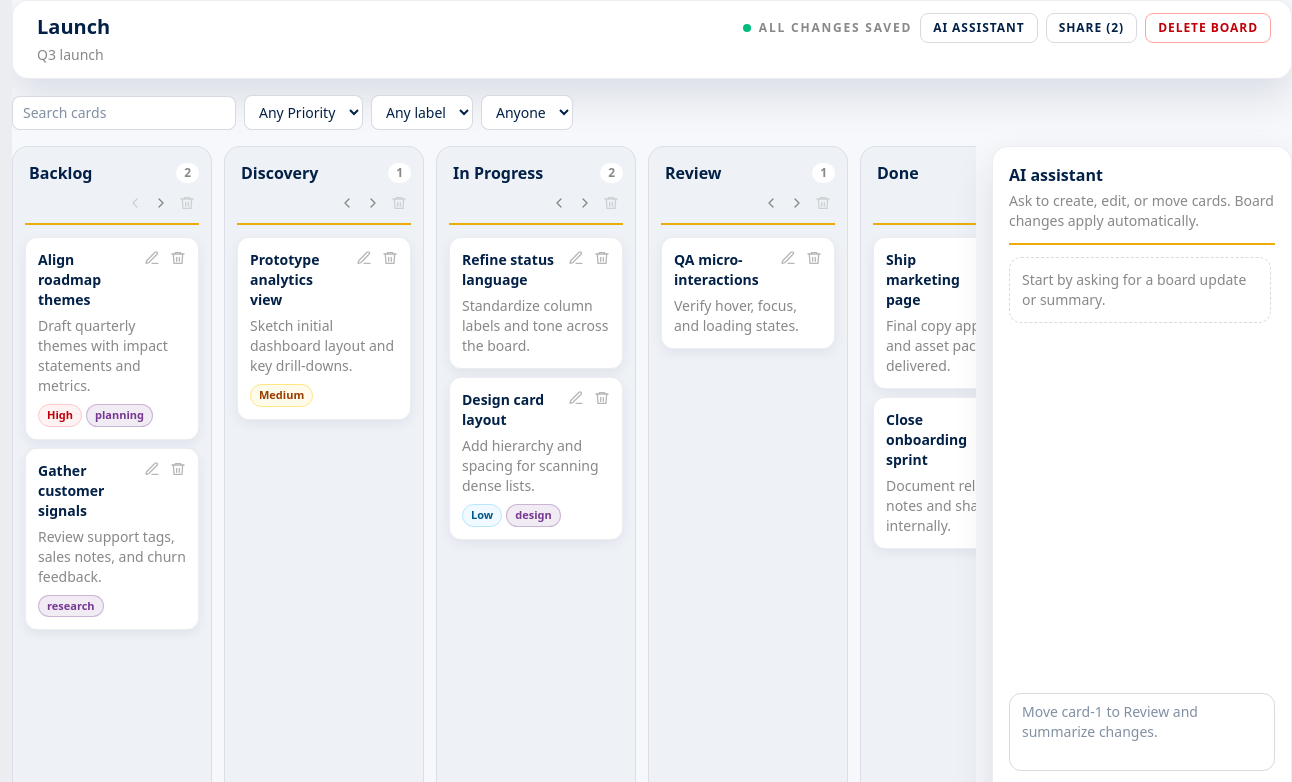
Test: KanbanBoard › restores the column title when cleared
Step 1. Clear the 1st field named "Column title" → (99, 173), box [25,159,172,187]
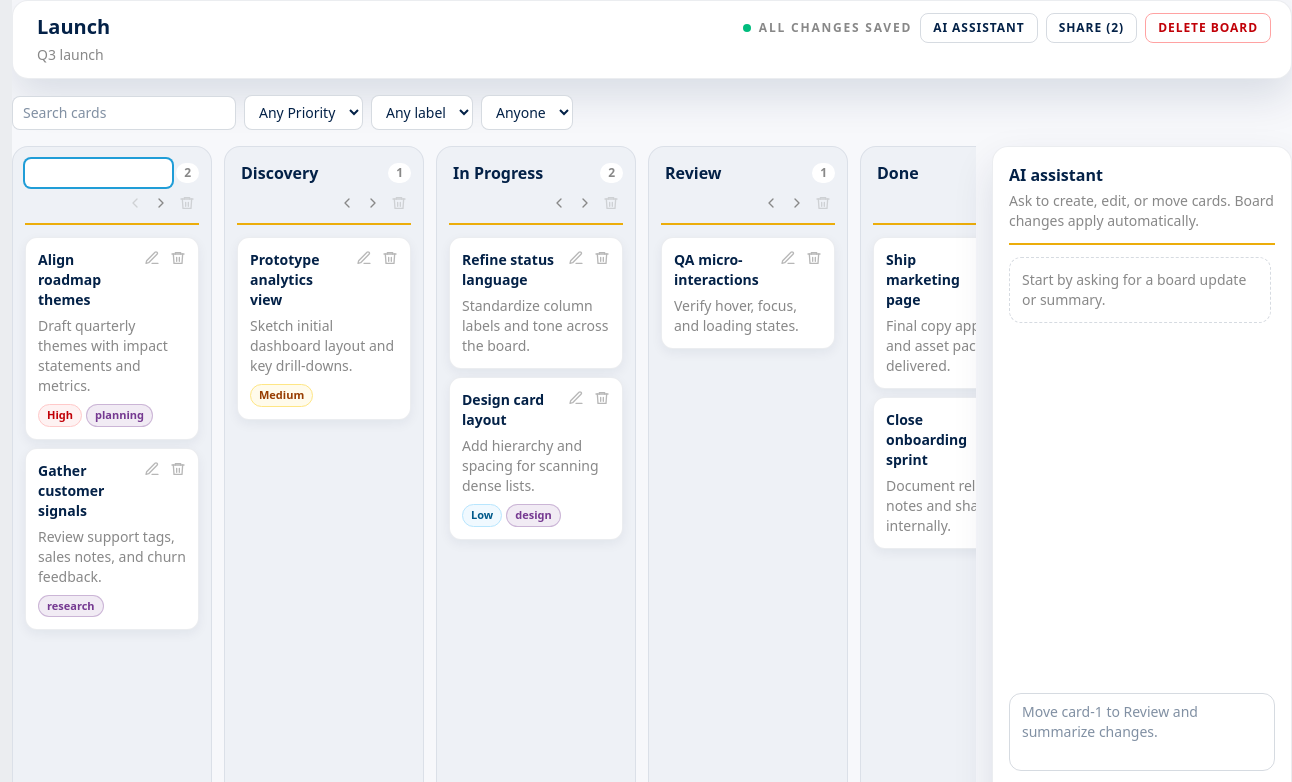
Step 2. Press Tab
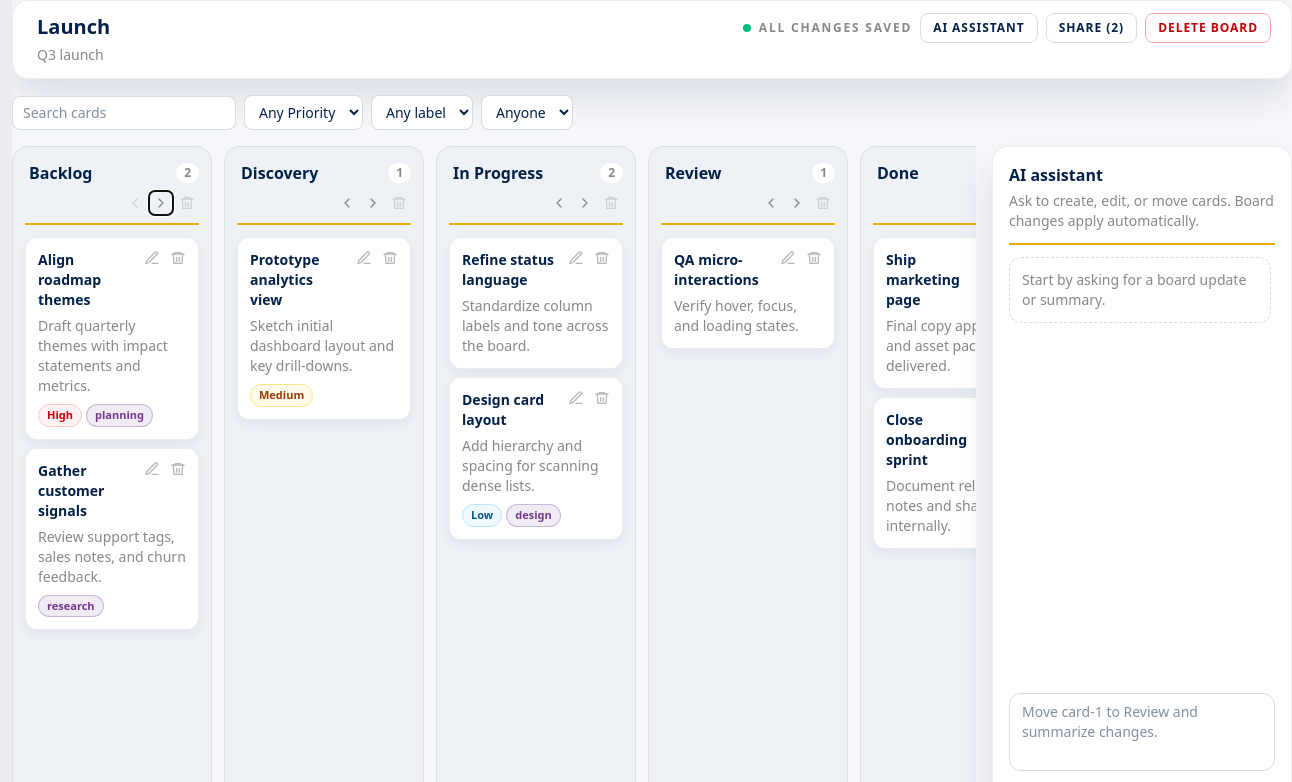
Expected: the 1st field named "Column title" holds "Backlog", [25,159,172,187]
